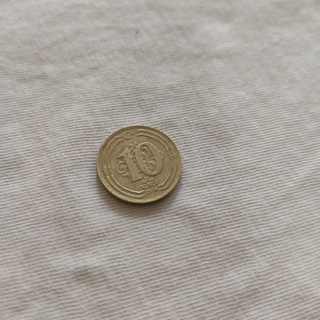10KURUS: (94, 122, 183, 207)
